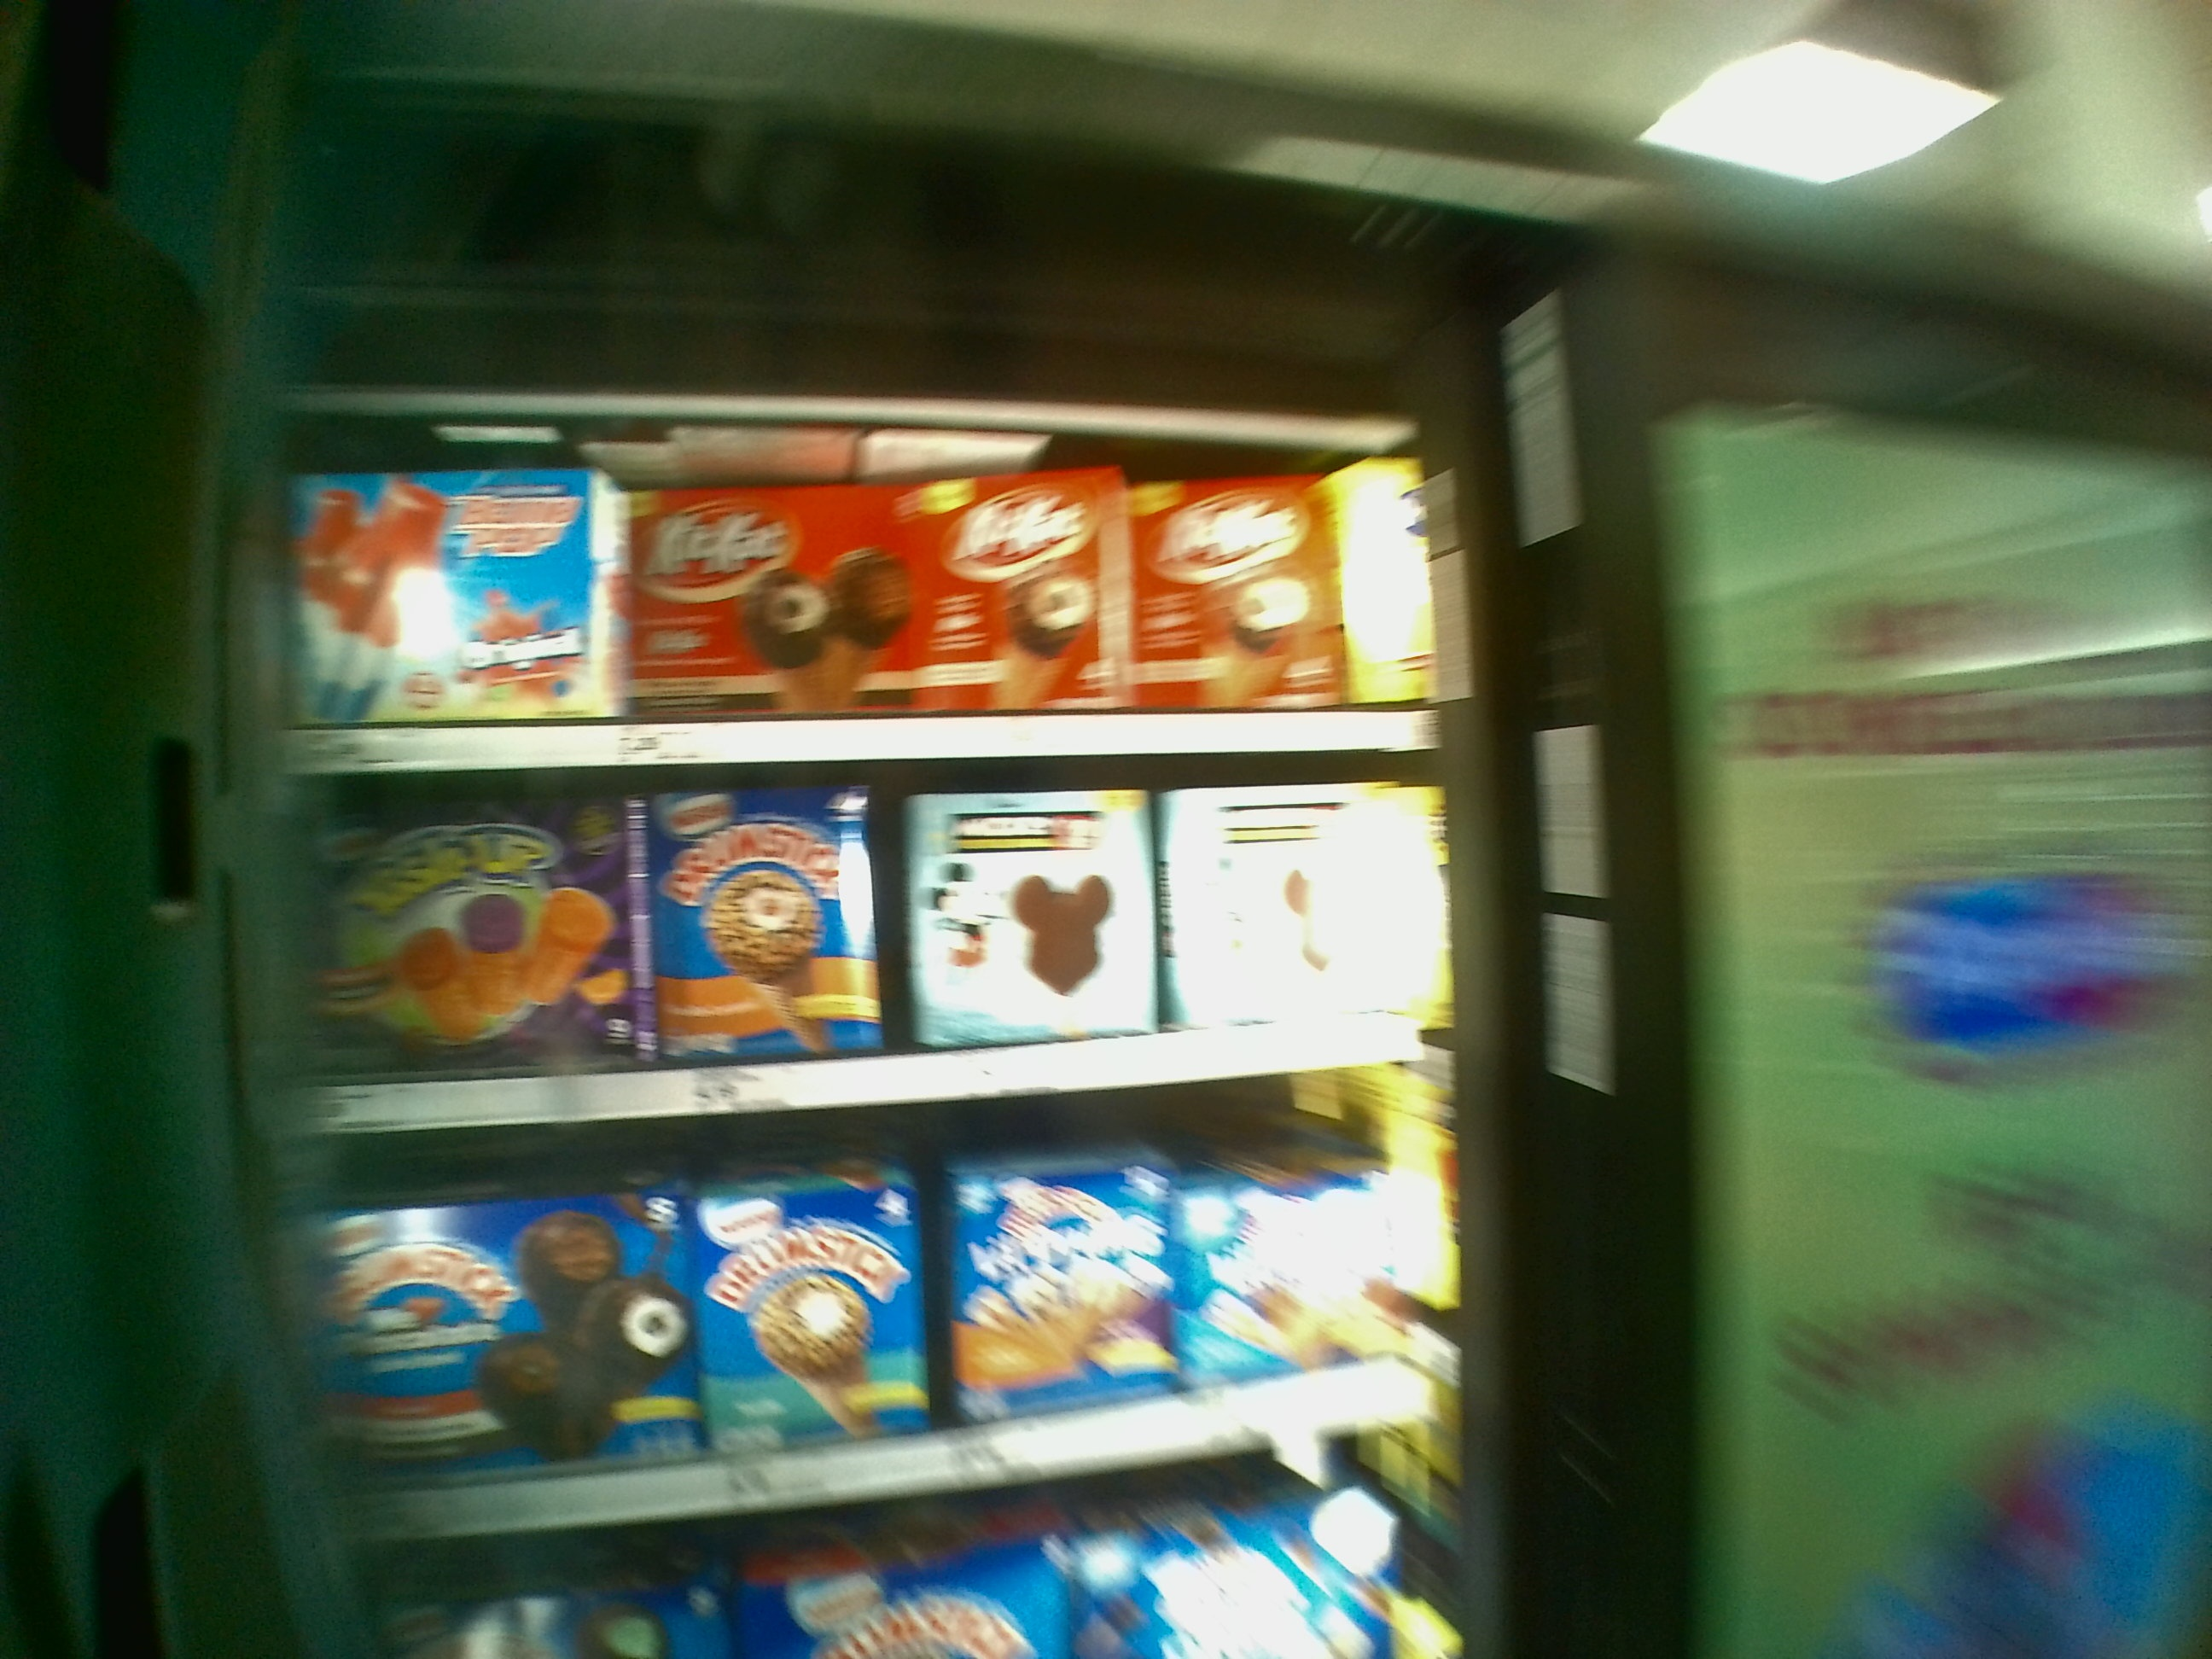shelf: (272, 373, 1428, 775), (334, 1080, 1449, 1495), (296, 772, 1442, 1131)
